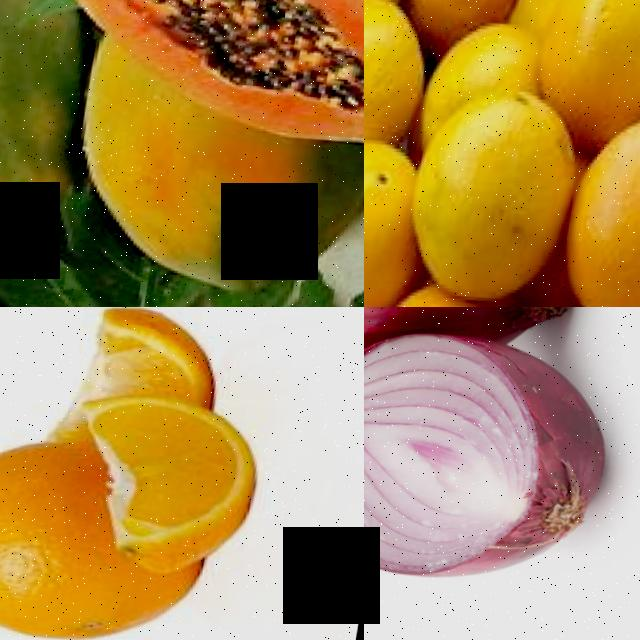onion: (364, 320, 630, 596)
orange: (54, 396, 272, 581), (399, 86, 585, 300), (0, 435, 114, 640), (68, 307, 241, 406), (527, 0, 640, 135), (561, 134, 640, 307), (364, 0, 438, 151), (364, 138, 422, 305)
pawpaw: (0, 0, 364, 156), (63, 121, 364, 307)
